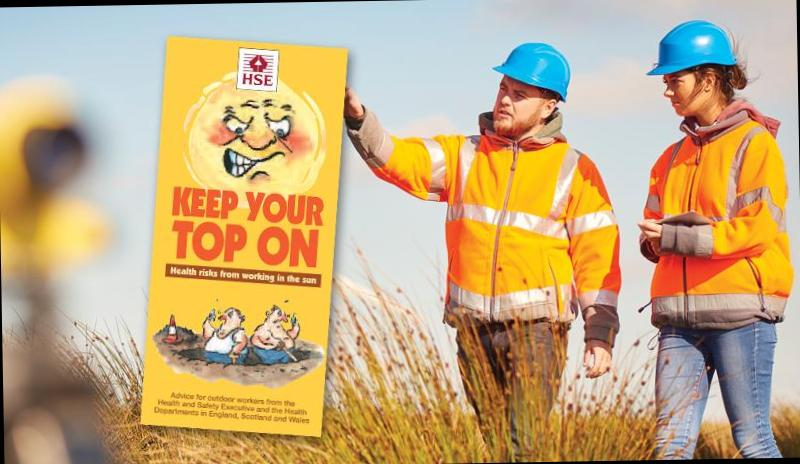Vest: (439, 115, 602, 362), (646, 122, 792, 344)
